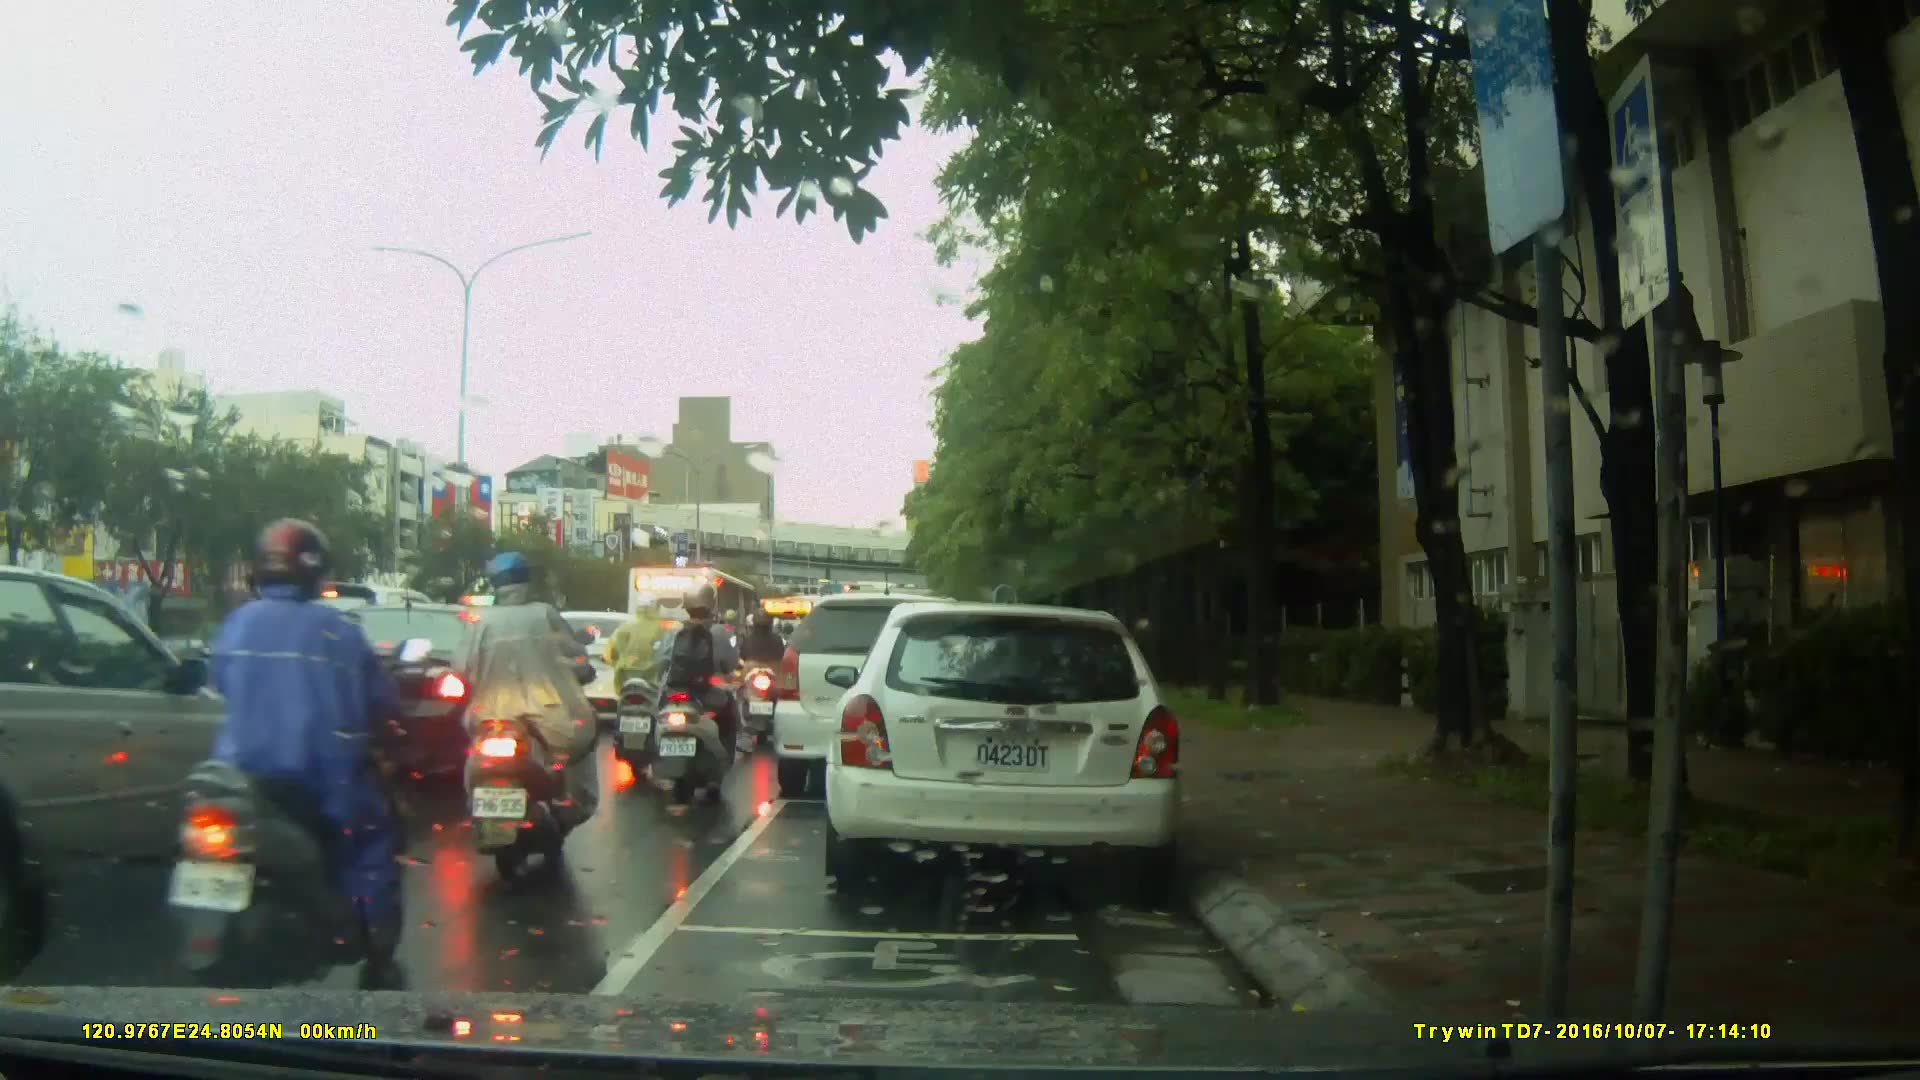rider: (154, 514, 396, 979), (451, 547, 592, 879), (653, 585, 741, 808), (611, 601, 679, 775), (735, 612, 792, 745)
vehicle: (831, 592, 1196, 897), (8, 565, 263, 903), (768, 592, 999, 802), (289, 604, 534, 780), (623, 565, 762, 700), (501, 609, 643, 723)
